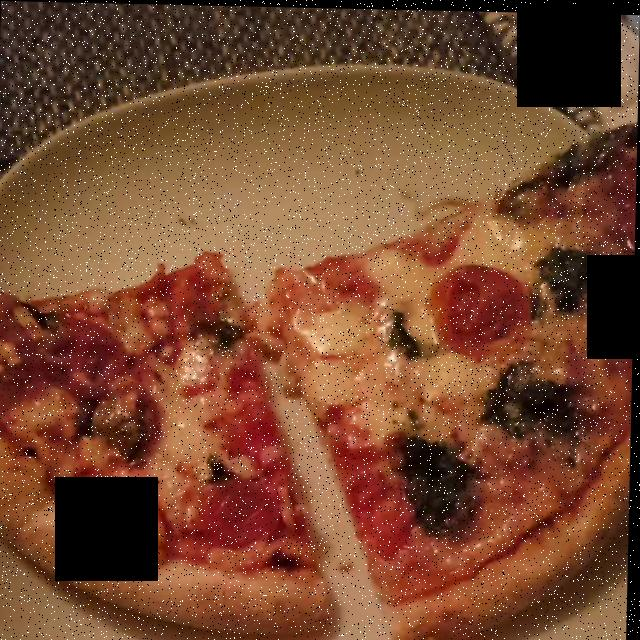pizza-margherita-baked: (0, 127, 627, 640)
